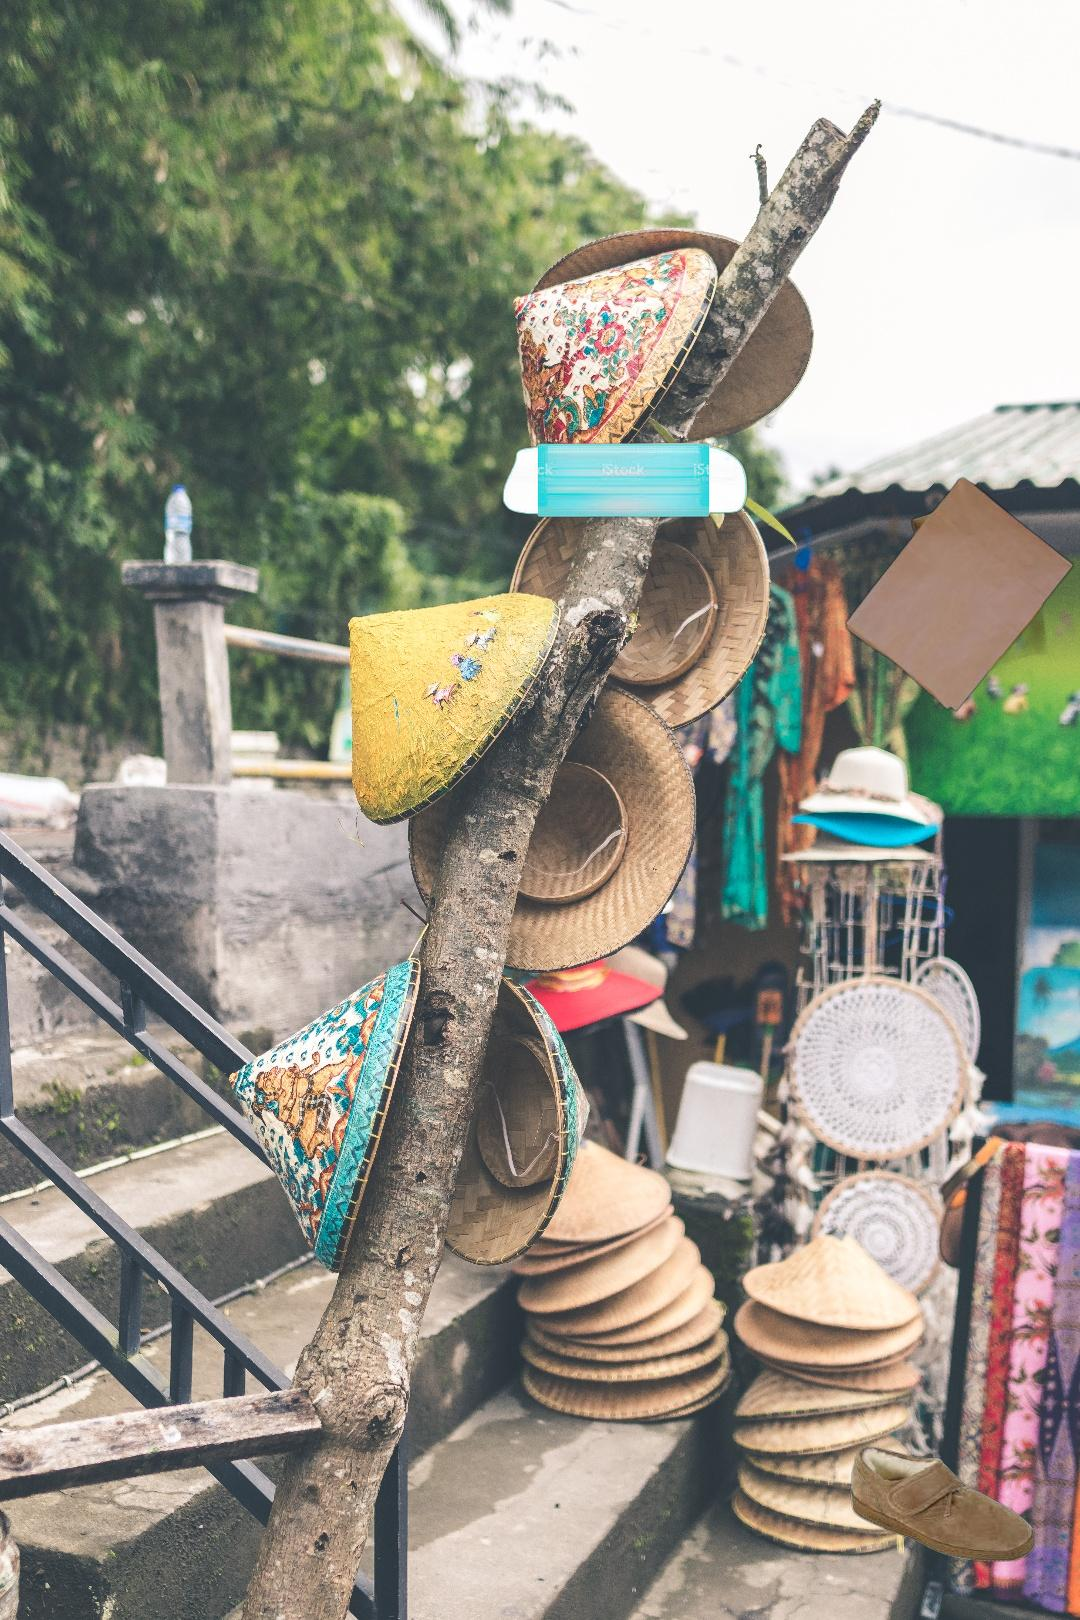paper-bag: (843, 475, 1080, 714)
shoes: (849, 1444, 1037, 1565)
trash: (500, 440, 749, 520)
